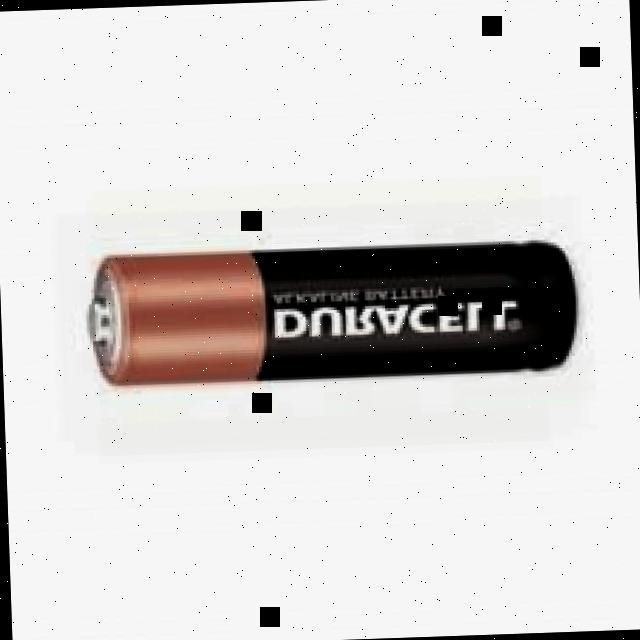battery: (85, 241, 576, 387)
